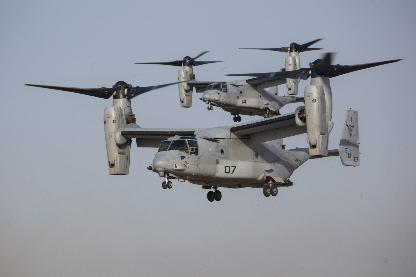Tornado: (24, 50, 404, 201), (134, 38, 324, 122)
